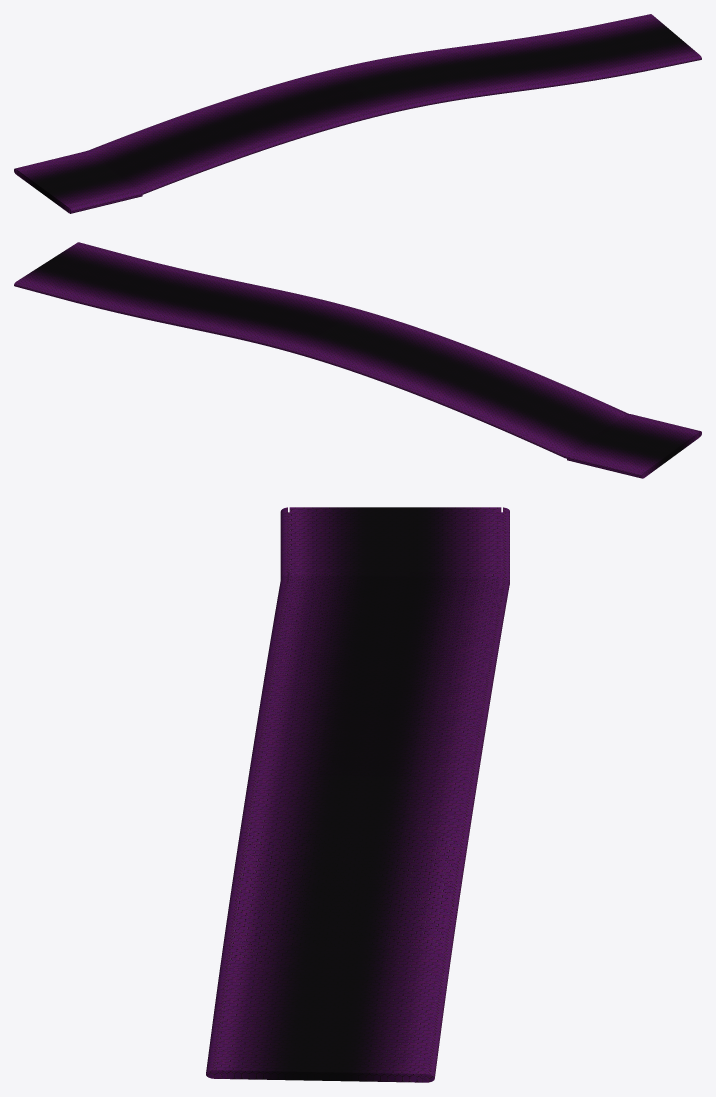
File: level-02-track-03.glb
3 renders of one model, top to bottom at view 1: azimuth 30°, elevation 25°; view 2: azimuth 150°, elevation 25°; view 3: azimuth 270°, elevation 25°, orthographic. The views are drawn at different scales.
Visible parts, largest first — view 1: track-03.001; view 2: track-03.001; view 3: track-03.001.
Part boxes in pixels (left/top/right/bottom): track-03.001: left=14, top=14, right=701, bottom=213; track-03.001: left=14, top=242, right=701, bottom=478; track-03.001: left=206, top=507, right=509, bottom=1082.
Bounding box in the file's own units: 60.48 × 3.24 × 12.91.
2 materials, 2 textured.
